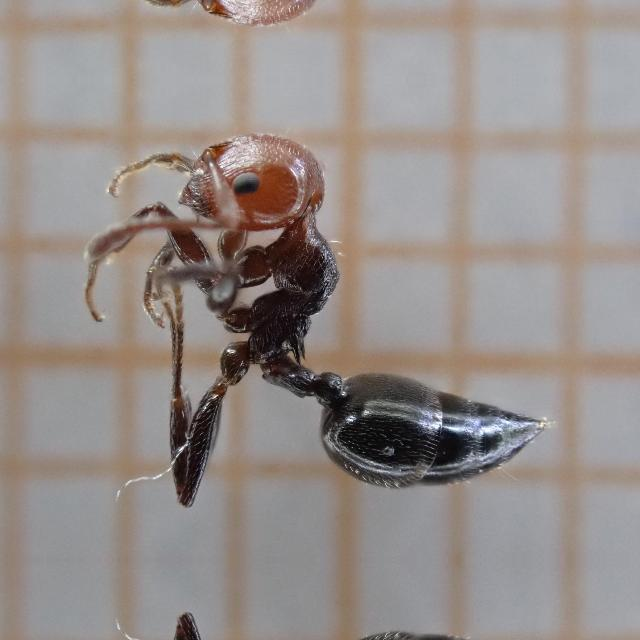Crematogaster: (116, 114, 544, 530)
